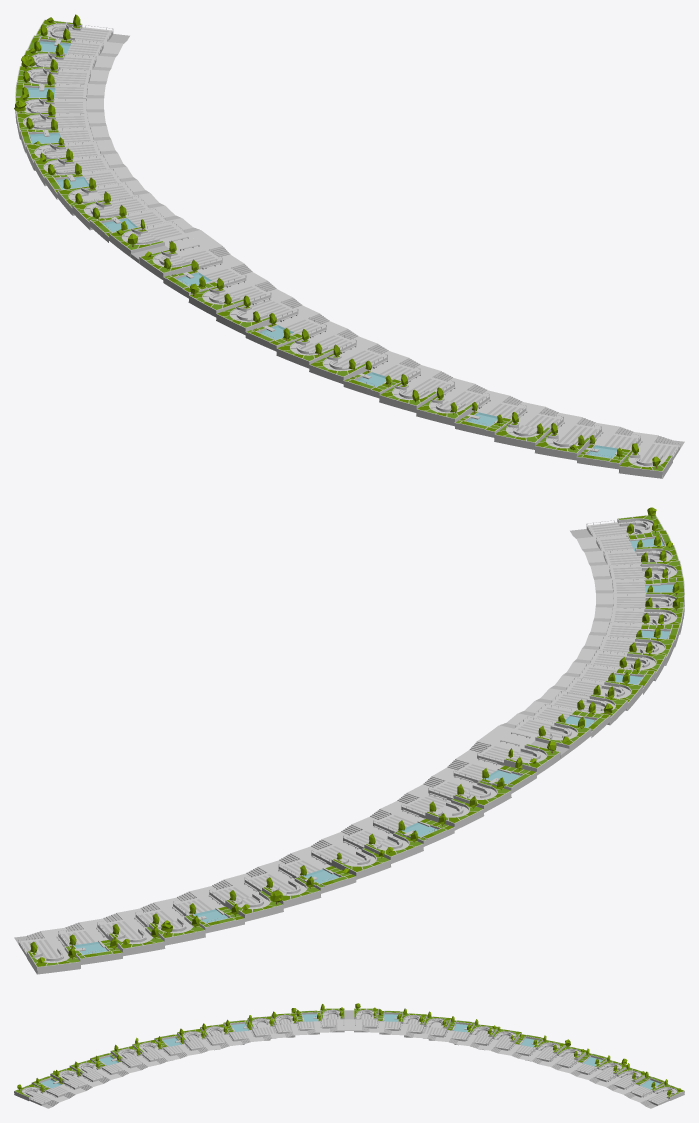
The model's file is ring8_segment.glb.
3 views of the same model, one above another, from view 1: azimuth 30°, elevation 25°; view 2: azimuth 150°, elevation 25°; view 3: azimuth 270°, elevation 25° (orthographic). The views are drawn at different scales.
Parts seen in each view (by area): view 1: RING_8_MOD; view 2: RING_8_MOD; view 3: RING_8_MOD.
Boxes of the visible parts, box(x1,y1,x2,y2) form: RING_8_MOD: box(14, 14, 684, 478); RING_8_MOD: box(14, 507, 684, 974); RING_8_MOD: box(14, 1003, 684, 1108).
Bounding box in the file's own units: 7943 × 1811 × 31167.
8 materials, 1 textured.
